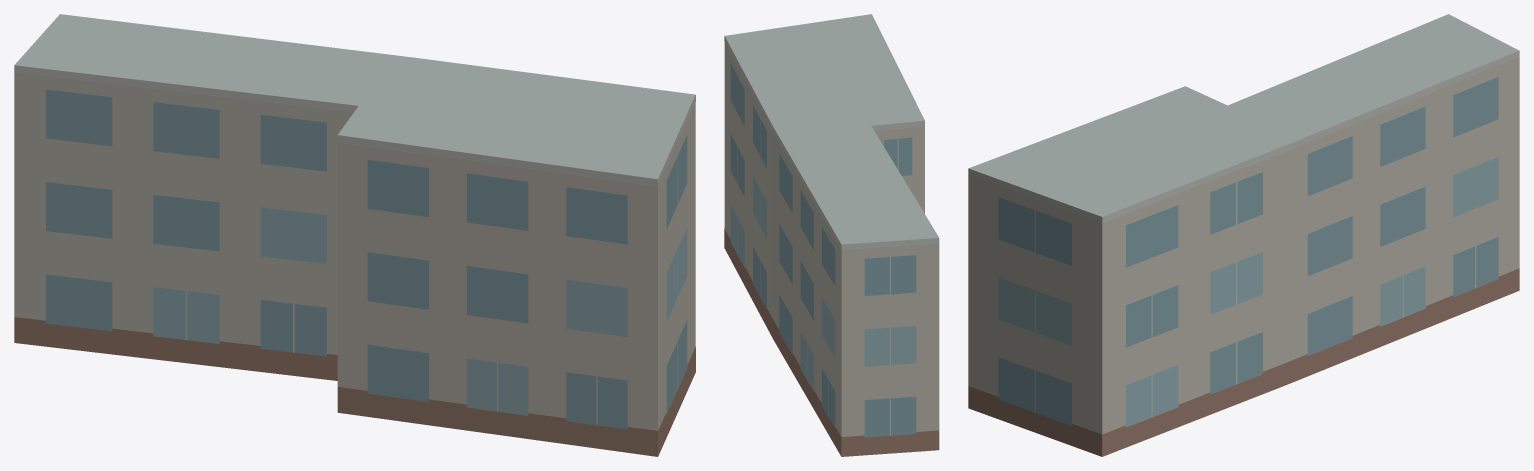
File: survey-upis-32471720.glb
3 views of the same model, side by side, from view 1: azimuth 30°, elevation 25°; view 2: azimuth 150°, elevation 25°; view 3: azimuth 270°, elevation 25° (orthographic). The views are drawn at different scales.
Visible parts, largest first — view 1: survey-upis-32471720.tmp; view 2: survey-upis-32471720.tmp; view 3: survey-upis-32471720.tmp.
Part boxes in pixels (left/top/right/bottom): survey-upis-32471720.tmp: left=14, top=14, right=695, bottom=456; survey-upis-32471720.tmp: left=724, top=14, right=939, bottom=456; survey-upis-32471720.tmp: left=968, top=14, right=1519, bottom=456.
Bounding box in the file's own units: 16.61 × 9.15 × 19.05.
